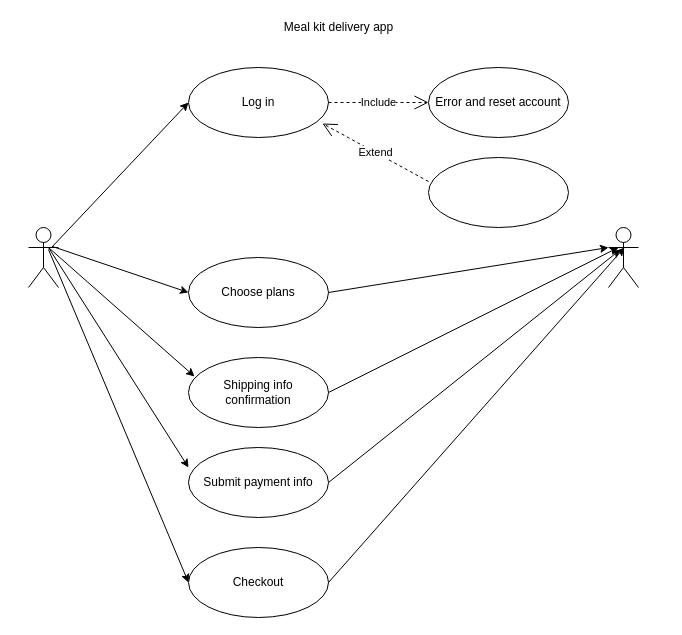
The diagram is 682 pixels wide and 635 high, and some of its shapes have lost their labels. Each missing label, with the box of its shape:
Client company: (608, 226, 638, 288)
Customer: (28, 226, 58, 288)
Sign up: (428, 156, 568, 228)
